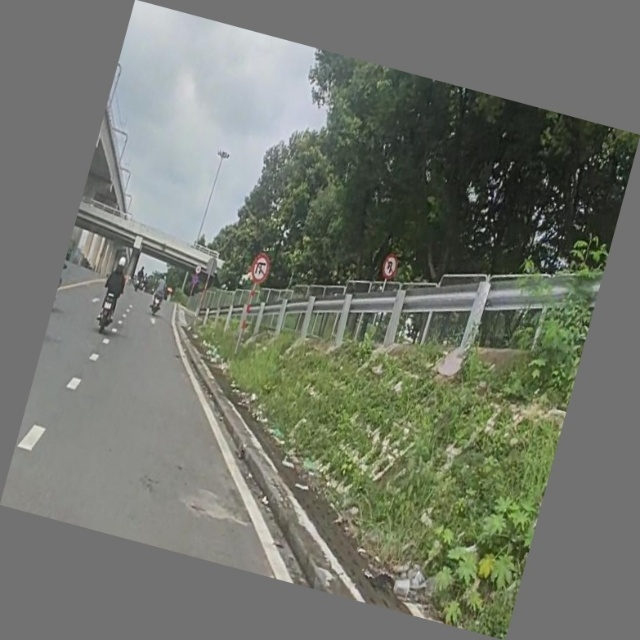P.124a*: (379, 251, 401, 281)
P.124d: (248, 252, 274, 285)
P.127*40: (193, 262, 203, 275)
P.130: (192, 275, 200, 286)
